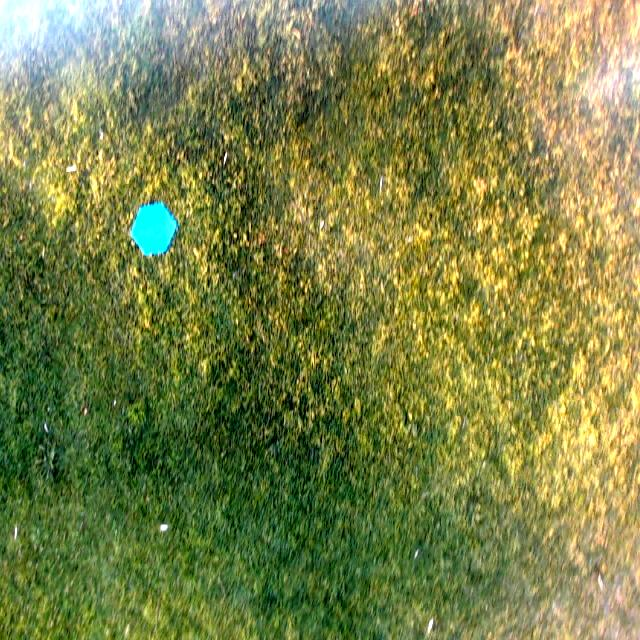blue_hexagon: (131, 205, 177, 256)
